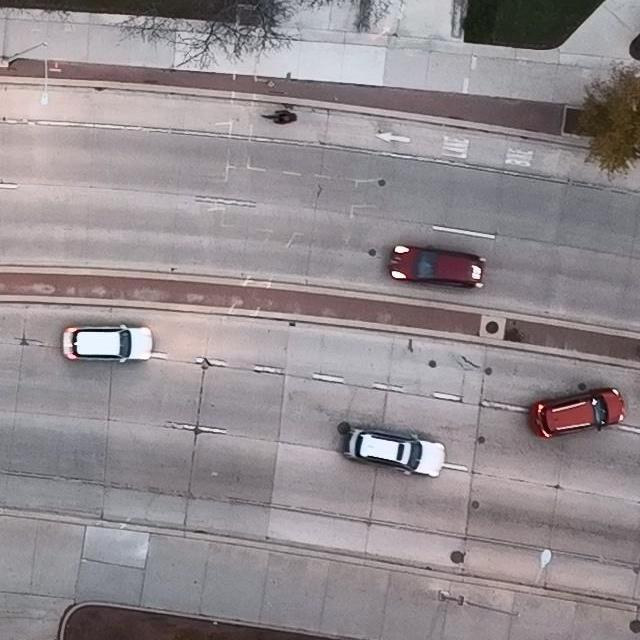car: (342, 428, 446, 479), (529, 387, 627, 437), (388, 243, 486, 288), (63, 324, 154, 362)
